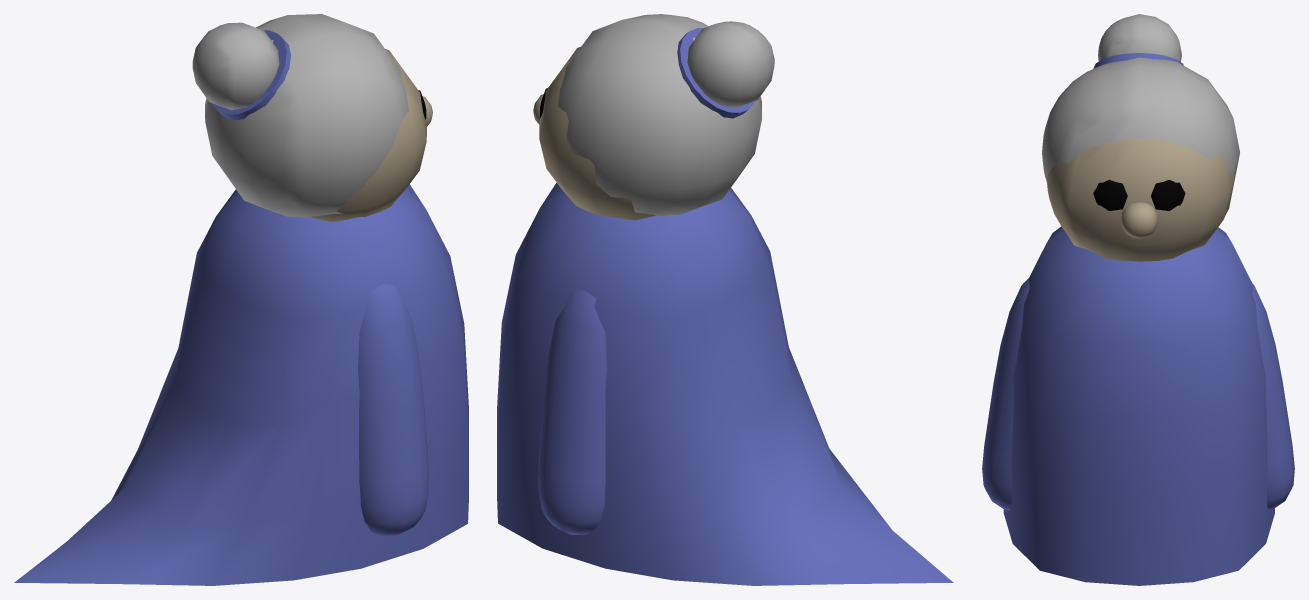
Rendered from Elder.fbx.
3 views of the same model, side by side, from view 1: azimuth 30°, elevation 25°; view 2: azimuth 150°, elevation 25°; view 3: azimuth 270°, elevation 25° (orthographic). The views are drawn at different scales.
Visible parts, largest first — view 1: ElderBody, ElderElderHair, ElderElderRArm, ElderHead; view 2: ElderBody, ElderElderHair, ElderElderLArm, ElderHead; view 3: ElderBody, ElderElderHair, ElderHead, ElderElderRArm, ElderElderLArm, ElderElderEyes, ElderElderNose.
Part boxes in pixels (x1,y1,x2,y2): ElderBody: (14, 184, 468, 585); ElderElderHair: (192, 14, 408, 217); ElderElderRArm: (358, 284, 428, 536); ElderHead: (310, 49, 426, 221); ElderBody: (497, 182, 953, 585); ElderElderHair: (558, 14, 774, 216); ElderElderLArm: (538, 290, 606, 535); ElderHead: (539, 46, 655, 220); ElderBody: (1003, 226, 1274, 585); ElderElderHair: (1042, 14, 1239, 181); ElderHead: (1047, 139, 1235, 261); ElderElderRArm: (982, 278, 1029, 510); ElderElderLArm: (1252, 284, 1294, 509); ElderElderEyes: (1093, 179, 1185, 210); ElderElderNose: (1121, 202, 1157, 238).
Size of the model in its own units: 2.42 by 2.67 by 1.61.
